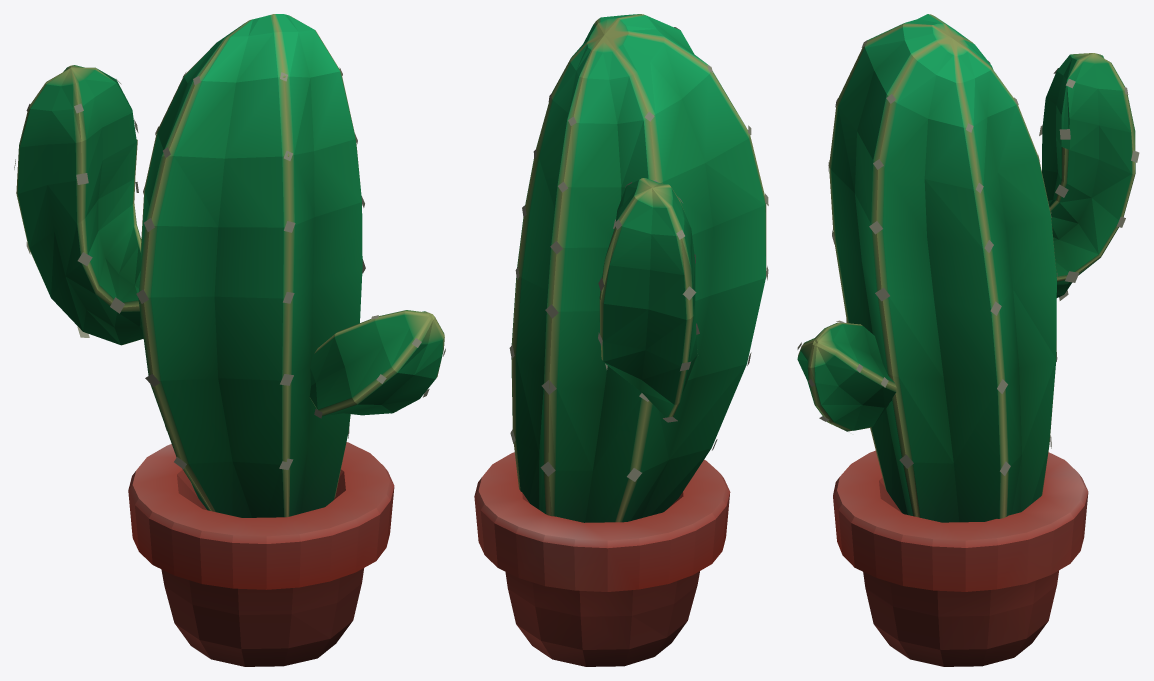
File: cactus.fbx
The picture shows the model from 3 angles, left to right: view 1: azimuth 30°, elevation 25°; view 2: azimuth 150°, elevation 25°; view 3: azimuth 270°, elevation 25°; orthographic projection. The views are drawn at different scales.
Visible parts, largest first — view 1: Prop_Cactus_texture_v1; view 2: Prop_Cactus_texture_v1; view 3: Prop_Cactus_texture_v1.
Part boxes in pixels (left/top/right/bottom): Prop_Cactus_texture_v1: left=14, top=14, right=445, bottom=666; Prop_Cactus_texture_v1: left=474, top=14, right=768, bottom=666; Prop_Cactus_texture_v1: left=797, top=14, right=1139, bottom=666.
Bounding box in the file's own units: 0.2127 × 0.4474 × 0.2274.
